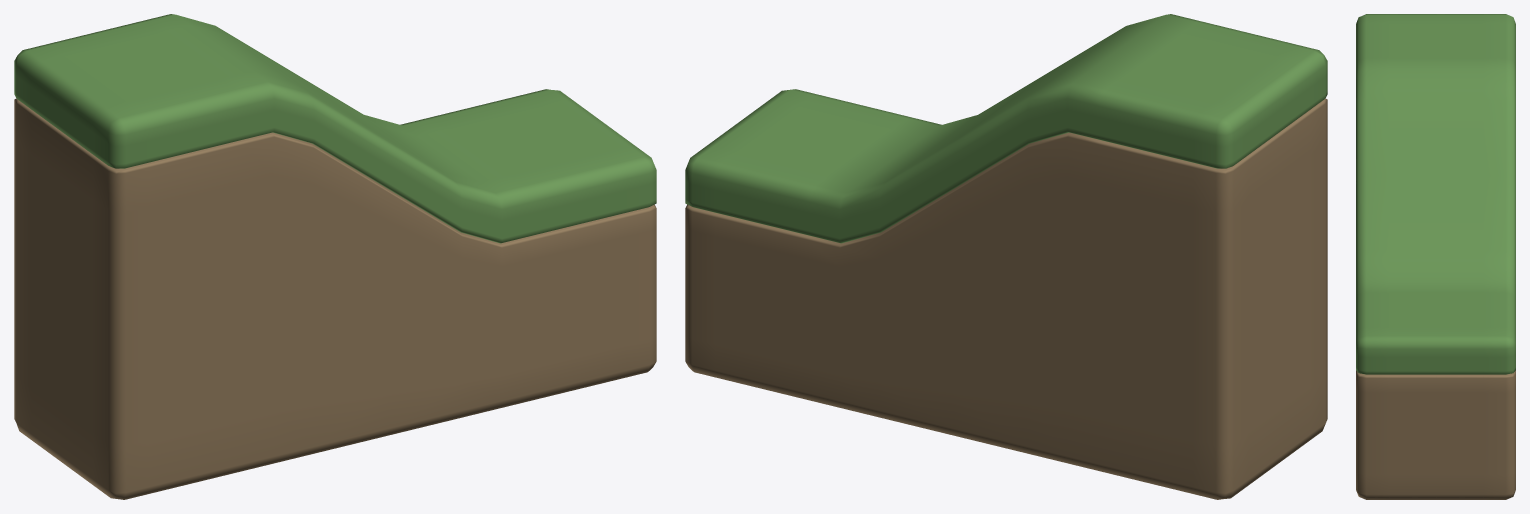
The model's file is plataforma_rampa 1.fbx.
3 views of the same model, side by side, from view 1: azimuth 30°, elevation 25°; view 2: azimuth 150°, elevation 25°; view 3: azimuth 270°, elevation 25° (orthographic). The views are drawn at different scales.
Parts seen in each view (by area): view 1: pCube4; view 2: pCube4; view 3: pCube4.
Boxes of the visible parts, bbox=[...] form: pCube4: bbox=[14, 14, 656, 499]; pCube4: bbox=[685, 14, 1327, 499]; pCube4: bbox=[1356, 14, 1515, 499].
Size of the model in its own units: 12 by 8 by 4.
